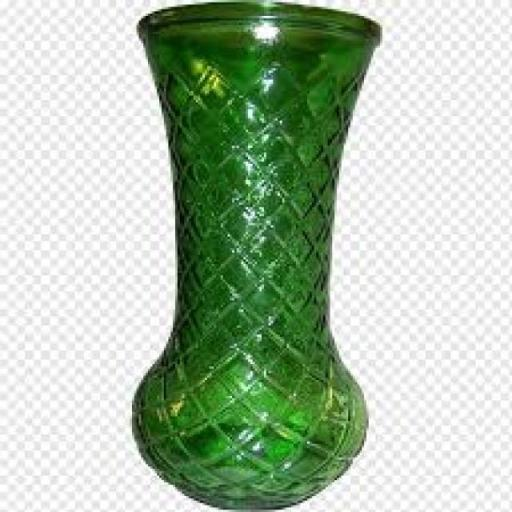glass: (114, 0, 387, 512)
